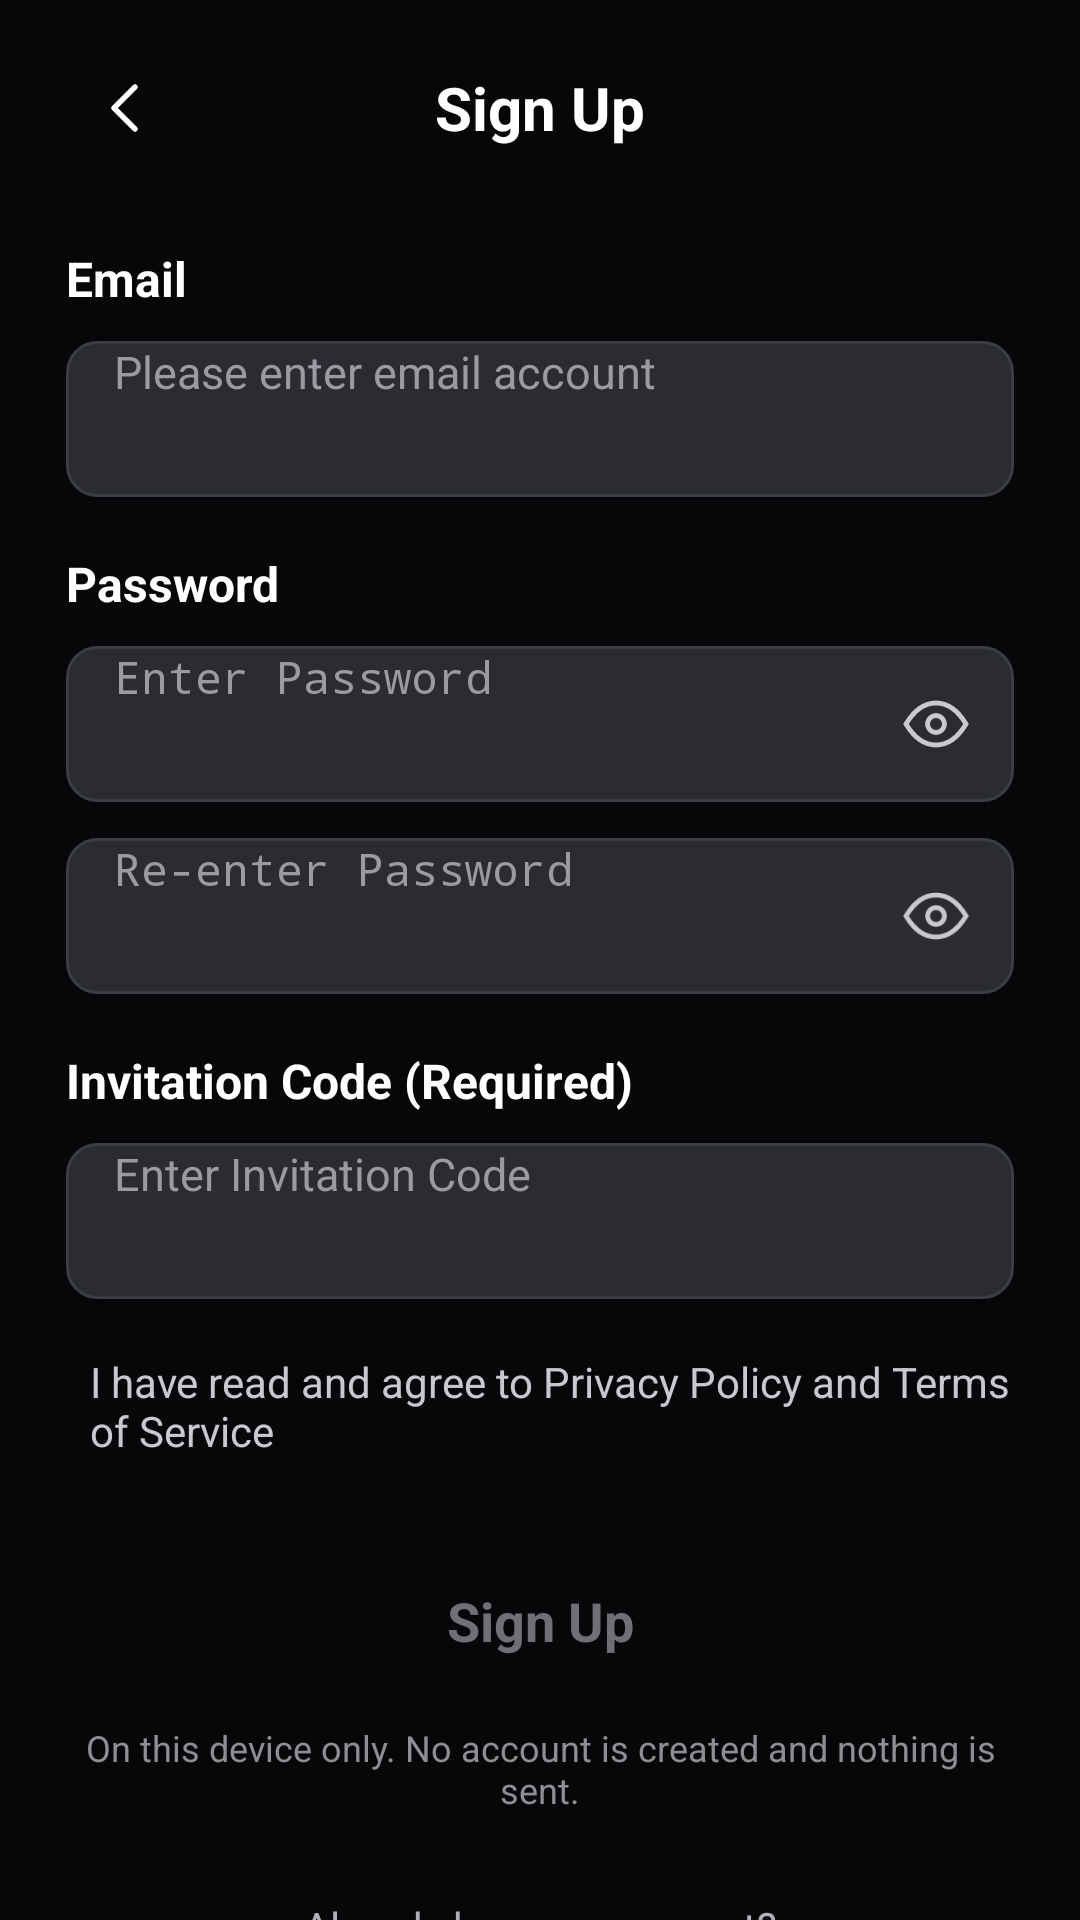

Icons on this 1080 x 1920 Android screen, each with the point to tap as (x,y):
Back: (124,108)
Show password: (936,724), (936,916)
